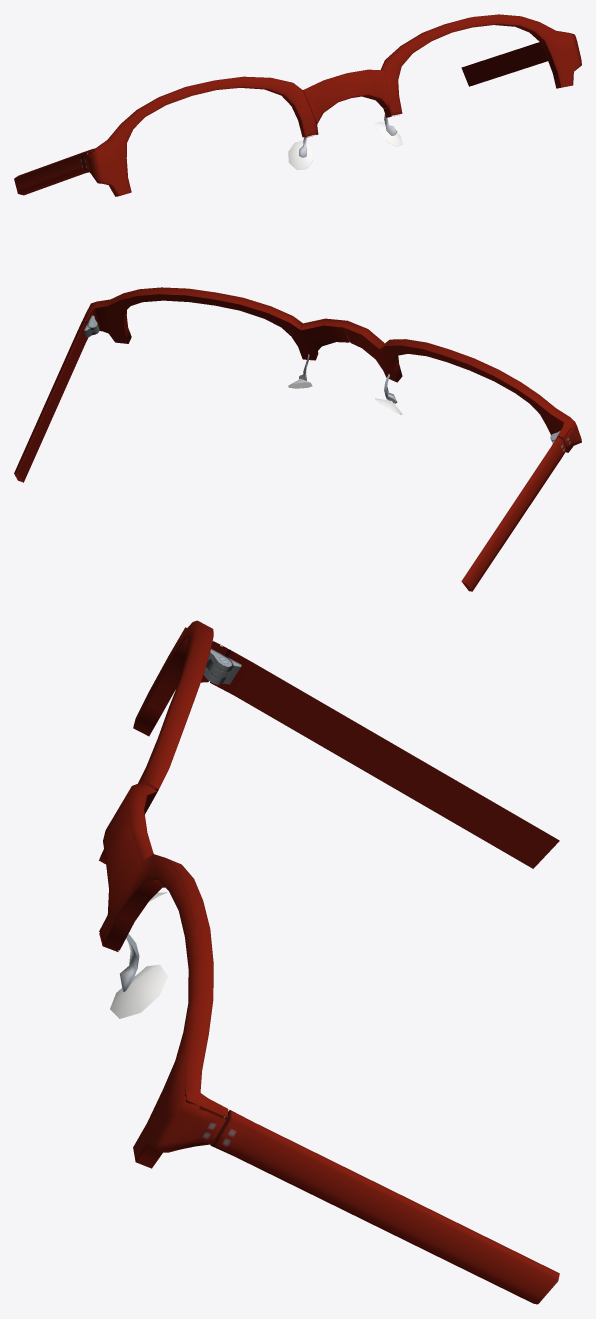
The model's file is AstonMachanAltGlassesGround.fbx.
3 renders of one model, top to bottom at view 1: azimuth 30°, elevation 25°; view 2: azimuth 150°, elevation 25°; view 3: azimuth 270°, elevation 25°, orthographic. The views are drawn at different scales.
Parts seen in each view (by area): view 1: Glasses; view 2: Glasses; view 3: Glasses.
Part boxes in pixels (x1,y1,x2,y2): Glasses: (14,14,581,196); Glasses: (14,287,581,591); Glasses: (99,620,559,1304).
Bounding box in the file's own units: 0.0961 × 0.0289 × 0.0449.
